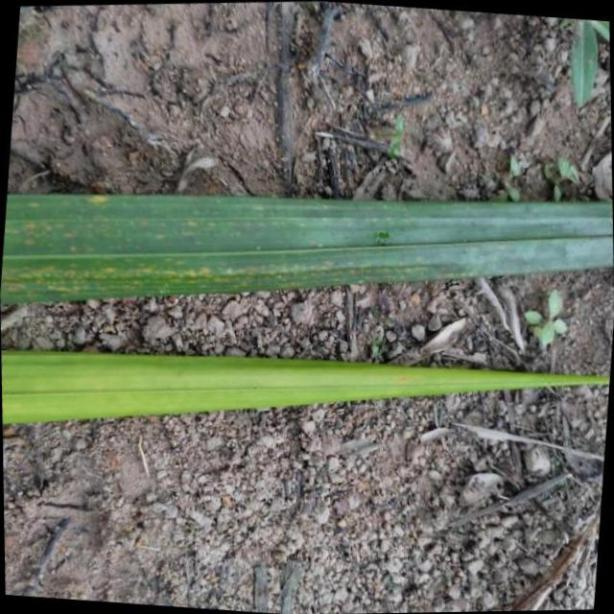nitrogen: (0, 182, 614, 302), (0, 347, 614, 425)
